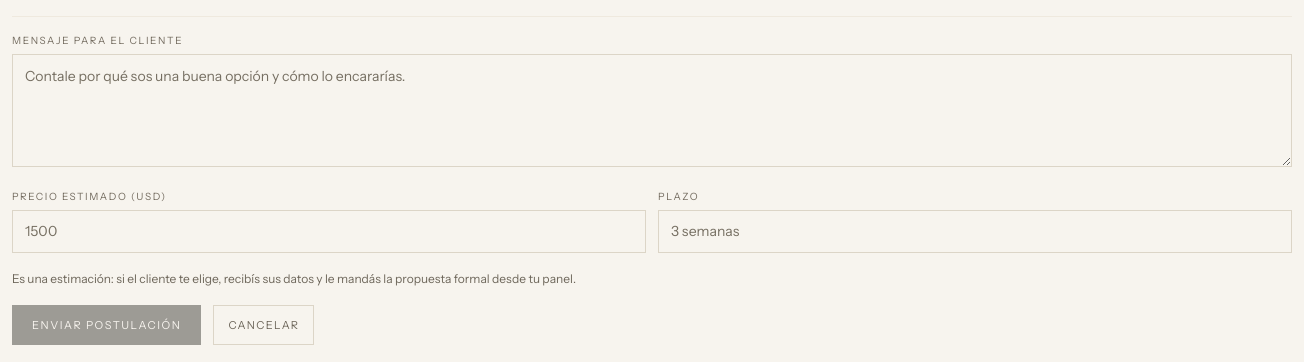
FormPostulacion: precio estimado › acepta un centavo y el máximo representable por NUMERIC(12,2)
In the text box labelled "Mensaje para el cliente": (652, 110) [12,54,1292,167], type "Puedo hacerlo esta semana."
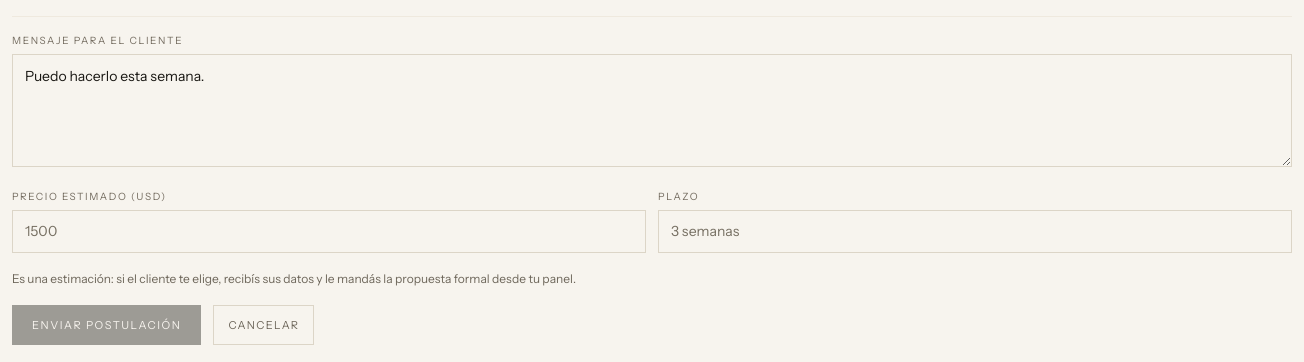
In the field labelled "Precio estimado (USD)": (329, 232) [12,210,646,253], type "0,01"
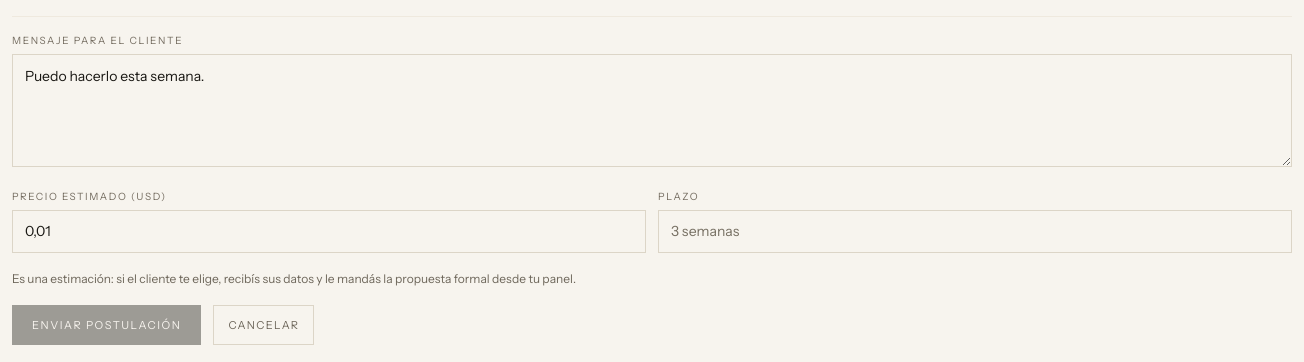
In the field labelled "Plazo": (975, 232) [658,210,1292,253], type "1 semana"
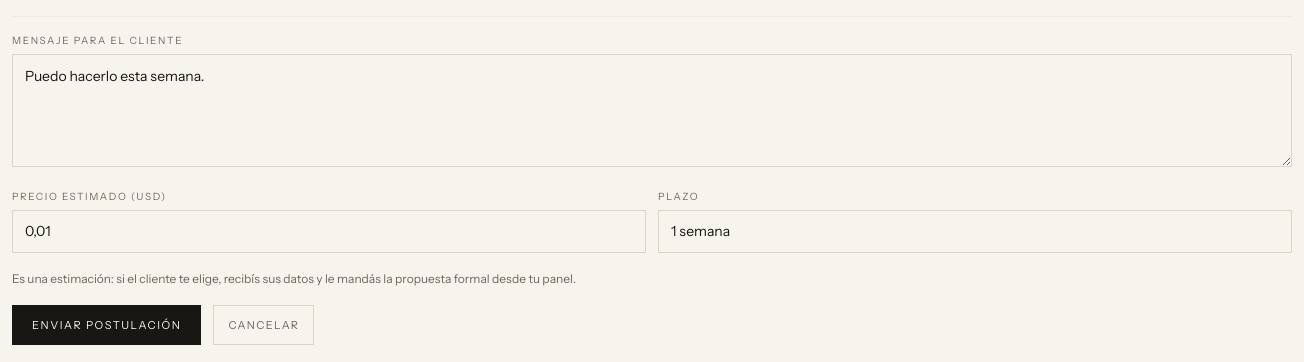
Now the button "Enviar postulación" is enabled, box [12,304,201,345]
Replace the text in the field labelled "Precio estimado (USD)" with "9999999999.99": (329, 232) [12,210,646,253]
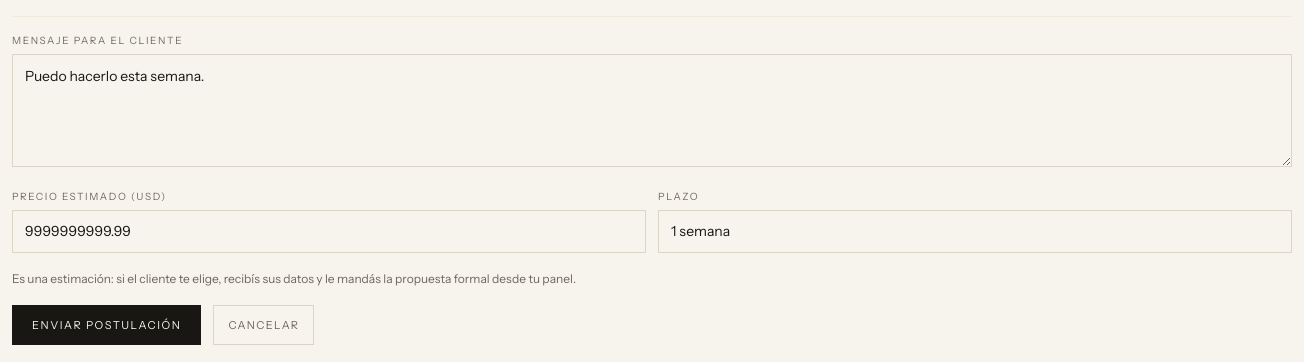
Now the button "Enviar postulación" is enabled, box [12,304,201,345]
Replace the text in the field labelled "Precio estimado (USD)" with "10000000000": (329, 232) [12,210,646,253]
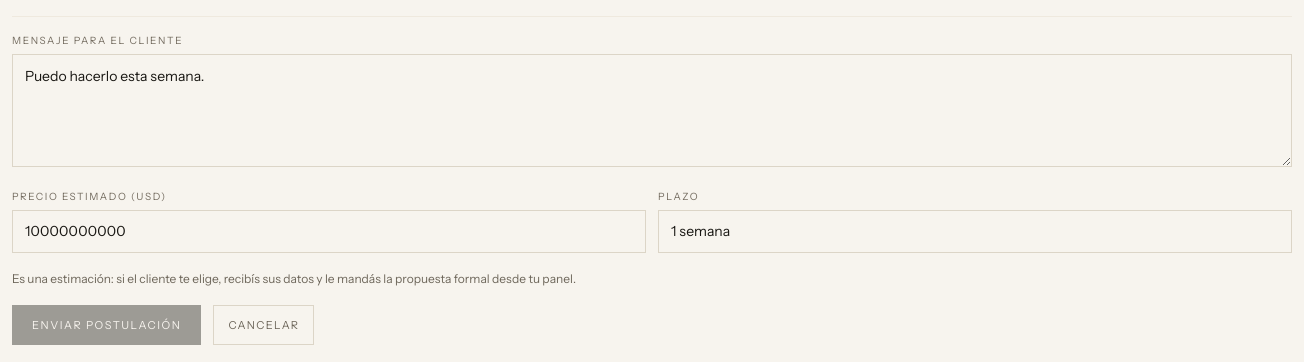
Now the button "Enviar postulación" is disabled, box [12,304,201,345]
